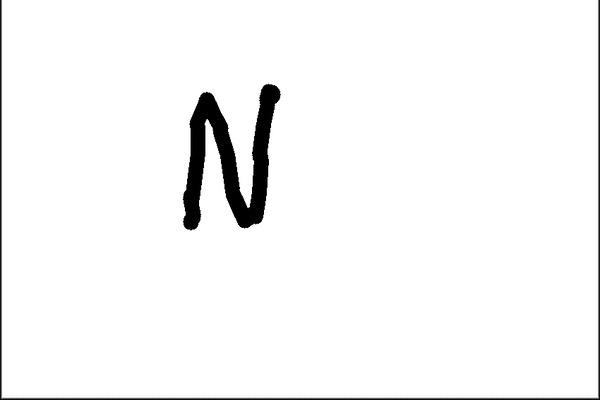N: (178, 78, 284, 239)
